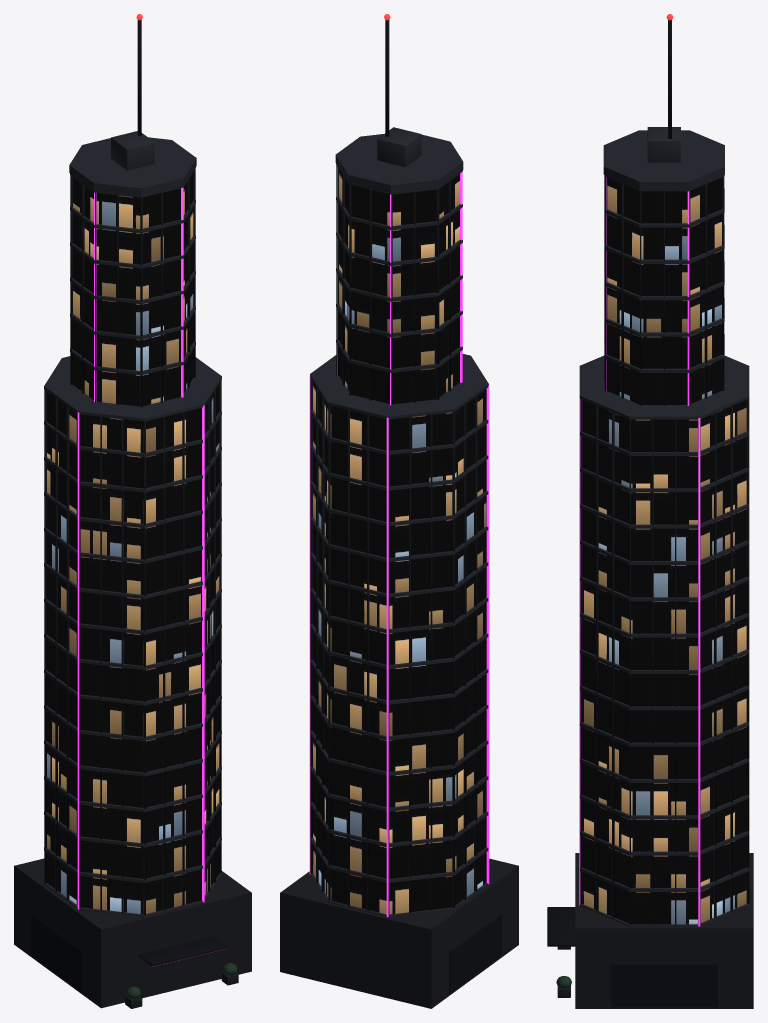
The model's file is neon-tower-b.glb.
3 renders of one model, left to right at view 1: azimuth 30°, elevation 25°; view 2: azimuth 150°, elevation 25°; view 3: azimuth 270°, elevation 25°, orthographic. The views are drawn at different scales.
Visible parts, largest first — view 1: Building; view 2: Building; view 3: Building.
Boxes of the visible parts, bbox=[...] form: Building: bbox=[14, 14, 251, 1008]; Building: bbox=[280, 14, 518, 1008]; Building: bbox=[547, 14, 753, 1008].
Size of the model in its own units: 16.1 by 95.3 by 18.5.
Materials: 9 (2 with a texture image).
